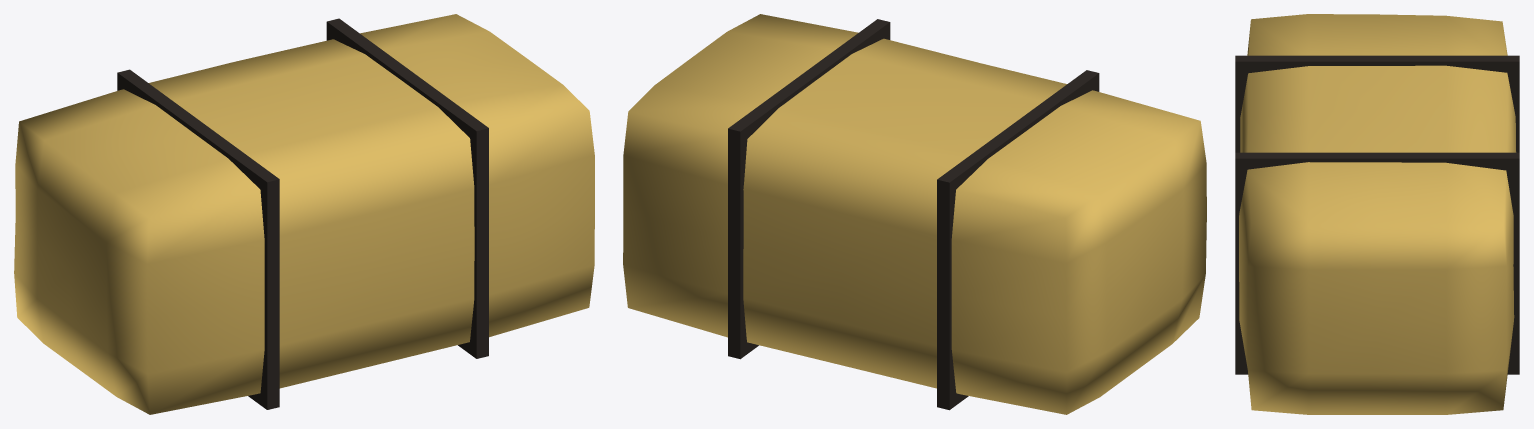
The model's file is fardo.glb.
3 renders of one model, left to right at view 1: azimuth 30°, elevation 25°; view 2: azimuth 150°, elevation 25°; view 3: azimuth 270°, elevation 25°, orthographic. The views are drawn at different scales.
Visible parts, largest first — view 1: Fardo; view 2: Fardo; view 3: Fardo.
Part boxes in pixels (x1,y1,x2,y2): Fardo: [14, 14, 594, 414]; Fardo: [623, 14, 1206, 414]; Fardo: [1235, 14, 1519, 414].
Size of the model in its own units: 1.11 by 0.52 by 0.62.
